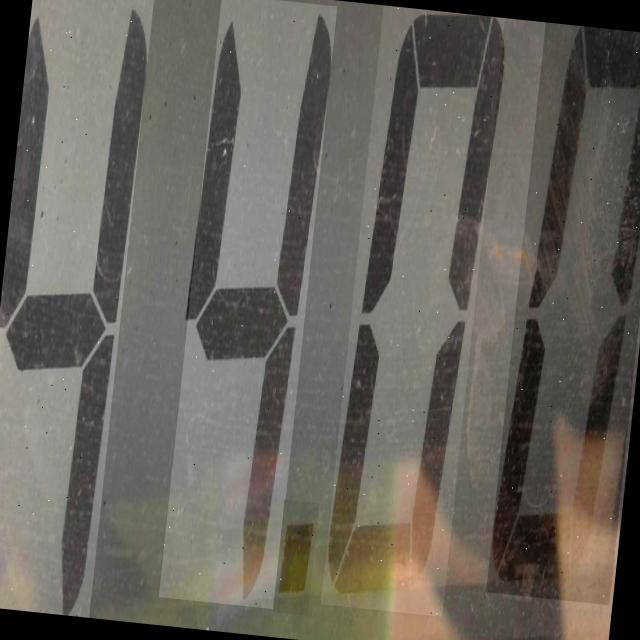.: (272, 499, 319, 615)
0: (320, 5, 505, 616), (485, 22, 640, 605)
4: (158, 0, 337, 609), (0, 0, 154, 617)
